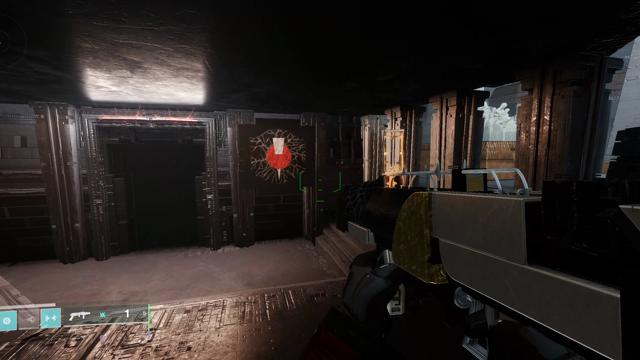kill: (249, 128, 307, 184)
